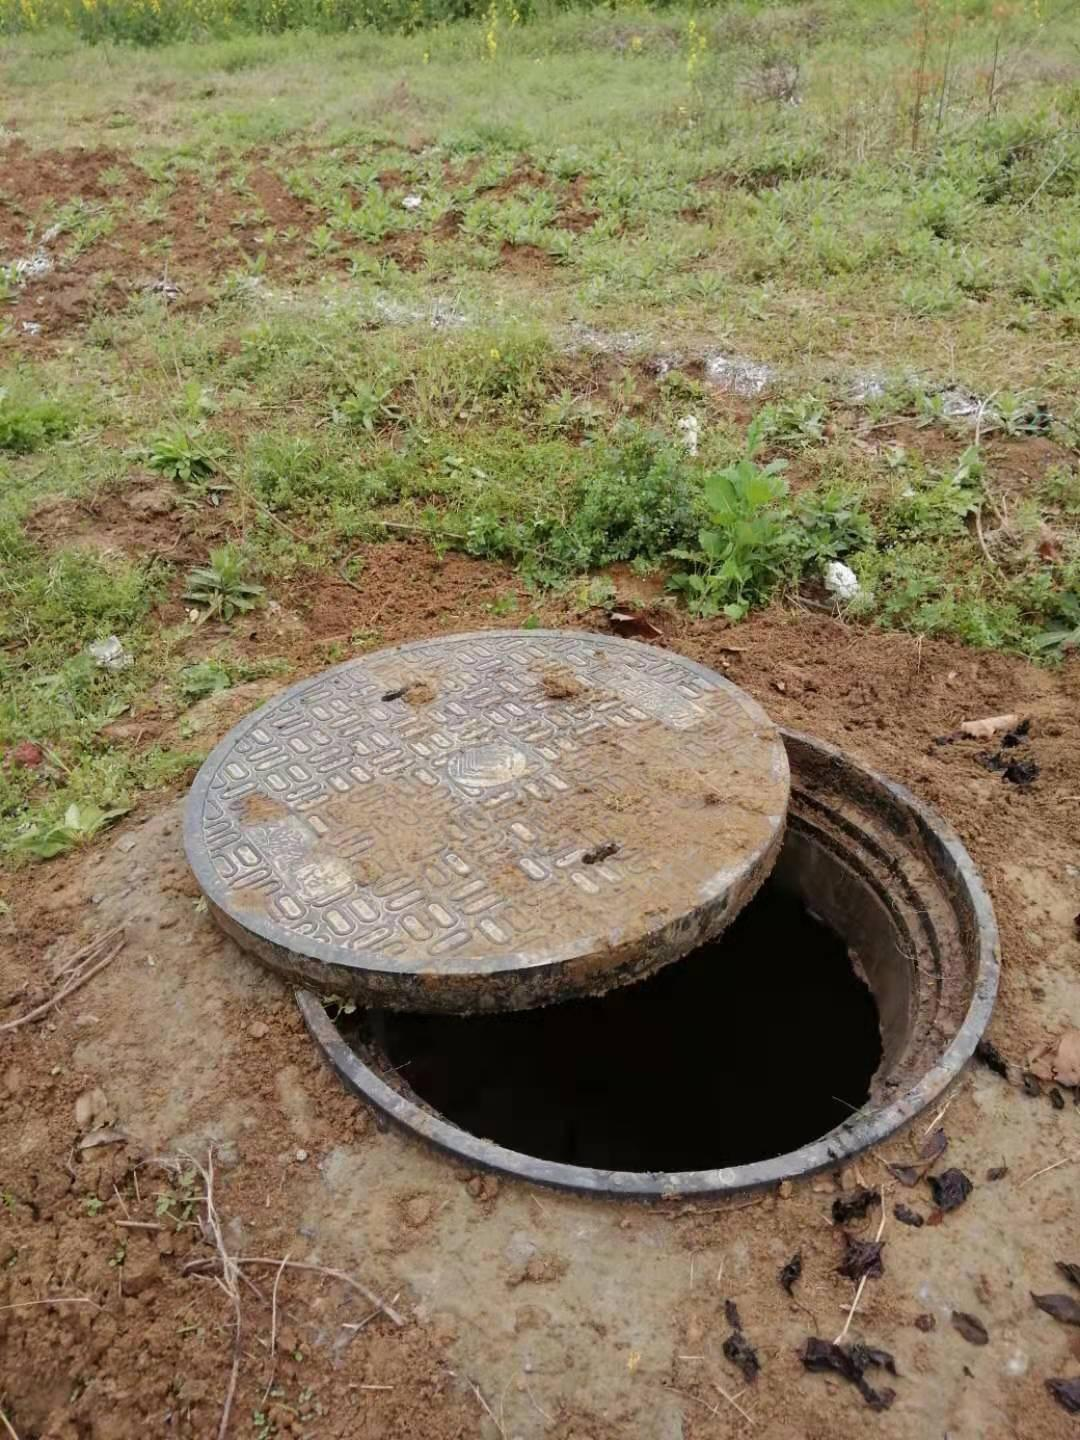wellcover: (191, 638, 1002, 1180)
